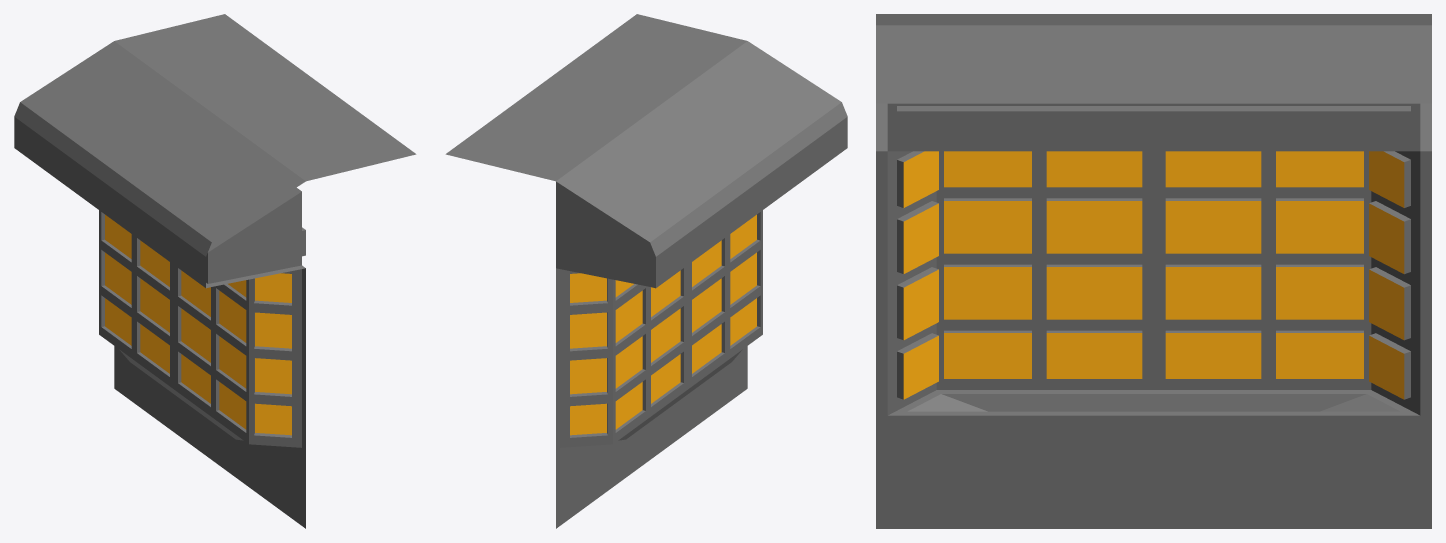
The model's file is O_Façade_Boutique_Oriel_Window_Gauche.fbx.
3 views of the same model, side by side, from view 1: azimuth 30°, elevation 25°; view 2: azimuth 150°, elevation 25°; view 3: azimuth 270°, elevation 25° (orthographic). The views are drawn at different scales.
Parts seen in each view (by area): view 1: c; view 2: c; view 3: c.
Part boxes in pixels (box(x1,y1,x2,y2)): c: box(14, 14, 416, 528); c: box(445, 14, 847, 528); c: box(876, 14, 1431, 528).
Size of the model in its own units: 1.9 by 3 by 3.
